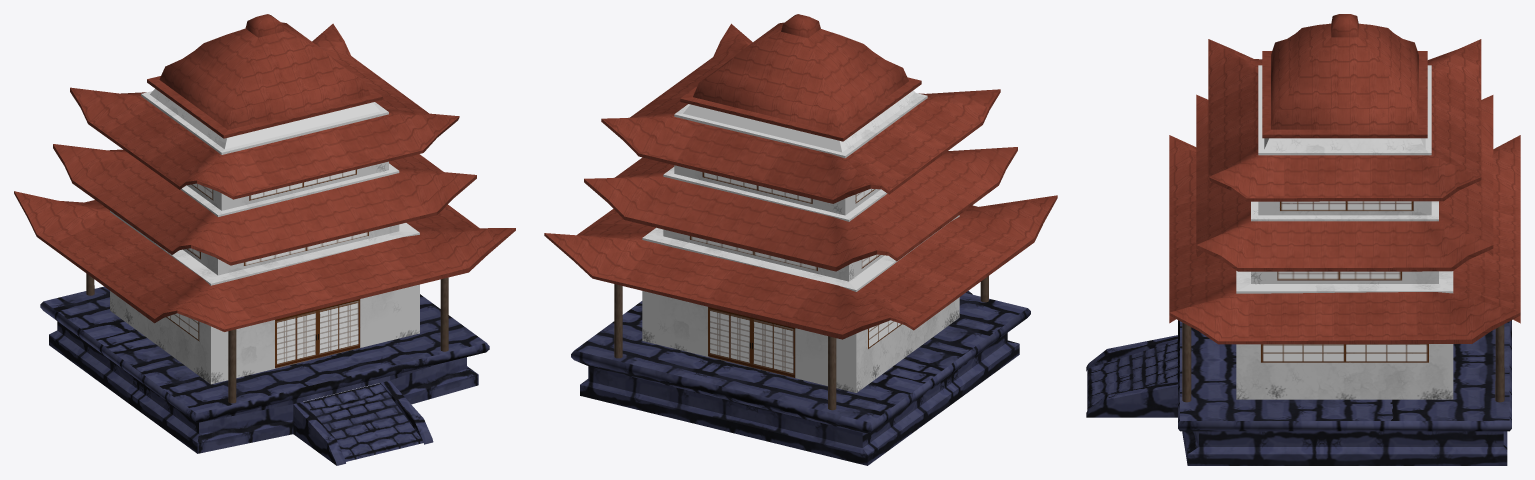
File: TorreJaponesa.fbx
3 renders of one model, left to right at view 1: azimuth 30°, elevation 25°; view 2: azimuth 150°, elevation 25°; view 3: azimuth 270°, elevation 25°, orthographic. The views are drawn at different scales.
Visible parts, largest first — view 1: JaponeseTower; view 2: JaponeseTower; view 3: JaponeseTower.
Boxes of the visible parts, x1,y1,x2,y2 form: JaponeseTower: (14,14,515,465); JaponeseTower: (544,14,1057,465); JaponeseTower: (1086,14,1520,465).
Bounding box in the file's own units: 10748 × 10588 × 11095.
